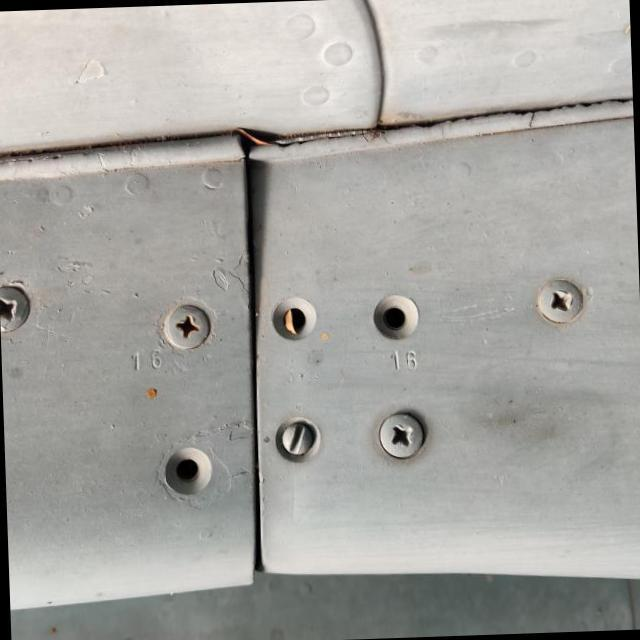Fastener Damage: (133, 414, 248, 525), (344, 274, 447, 372)
